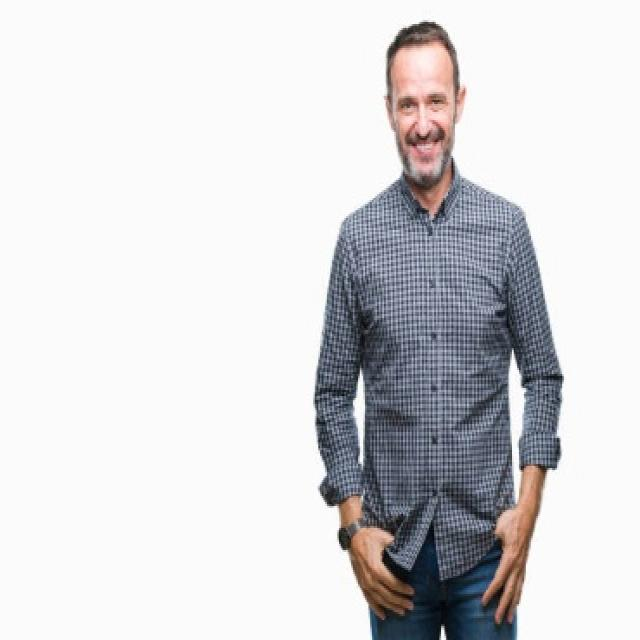adult: (314, 0, 566, 638)
